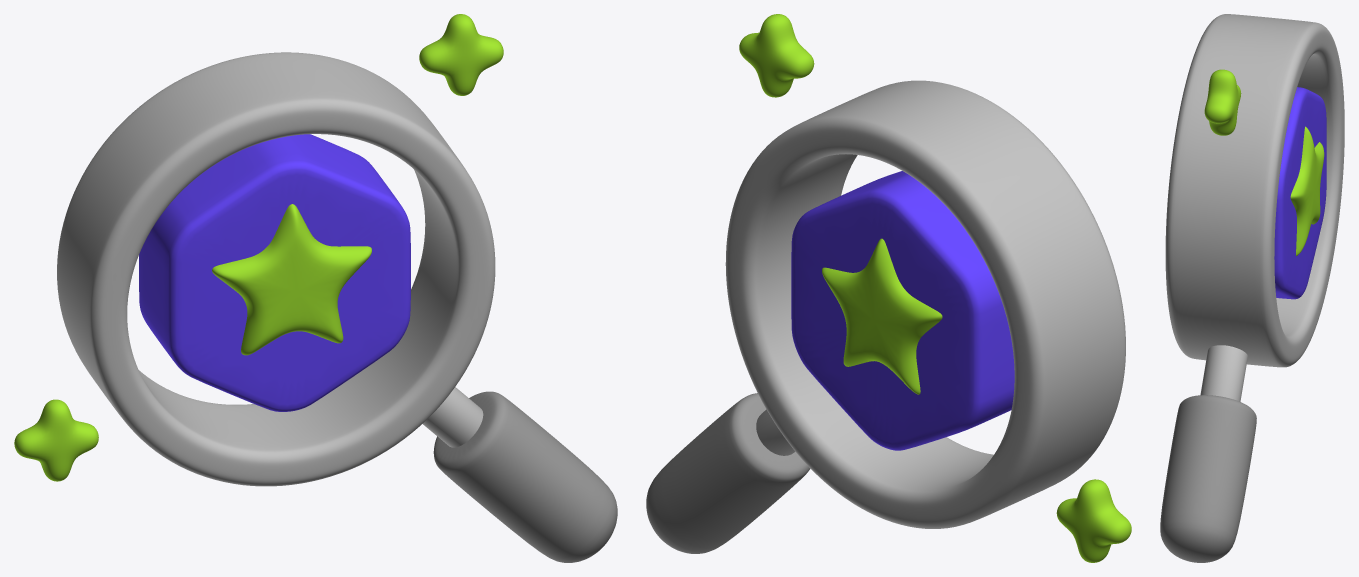
Rendered from exploring-rewards-animated-3d-icon-460751650207.glb.
The picture shows the model from 3 angles, left to right: view 1: azimuth 30°, elevation 25°; view 2: azimuth 150°, elevation 25°; view 3: azimuth 270°, elevation 25°; orthographic projection. The views are drawn at different scales.
Visible parts, largest first — view 1: Frame, Circle.003, Handle 2, Star.002, Spark 2, Spark 1, Handle 1; view 2: Frame, Circle.003, Handle 2, Star.002, Spark 1, Spark 2, Handle 1; view 3: Frame, Handle 2, Circle.003, Star.002, Handle 1, Spark 1.
Boxes of the visible parts, x1=… form: Frame: x1=57, y1=52, x2=495, y2=486; Circle.003: x1=139, y1=134, x2=410, y2=411; Handle 2: x1=433, y1=391, x2=617, y2=562; Star.002: x1=212, y1=204, x2=371, y2=355; Spark 2: x1=14, y1=399, x2=98, y2=481; Spark 1: x1=419, y1=14, x2=503, y2=95; Handle 1: x1=422, y1=387, x2=483, y2=447; Frame: x1=725, y1=80, x2=1125, y2=528; Circle.003: x1=791, y1=171, x2=1014, y2=450; Handle 2: x1=646, y1=393, x2=810, y2=553; Star.002: x1=822, y1=238, x2=942, y2=394; Spark 1: x1=739, y1=14, x2=814, y2=97; Spark 2: x1=1056, y1=479, x2=1131, y2=562; Handle 1: x1=756, y1=409, x2=795, y2=455; Frame: x1=1165, y1=14, x2=1344, y2=367; Handle 2: x1=1160, y1=395, x2=1256, y2=562; Circle.003: x1=1274, y1=87, x2=1326, y2=299; Star.002: x1=1290, y1=126, x2=1324, y2=255; Handle 1: x1=1200, y1=345, x2=1247, y2=401; Spark 1: x1=1204, y1=69, x2=1241, y2=135.
Size of the model in its own units: 2.61 by 2.61 by 0.9649.
